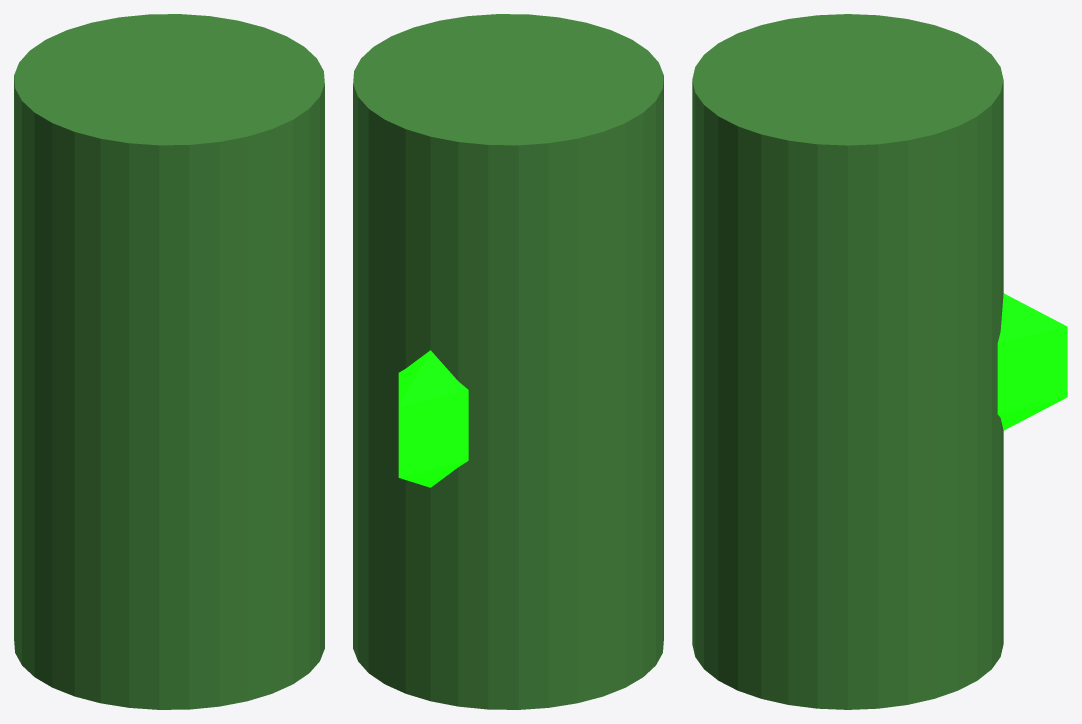
File: Player3D.glb
3 renders of one model, left to right at view 1: azimuth 30°, elevation 25°; view 2: azimuth 150°, elevation 25°; view 3: azimuth 270°, elevation 25°, orthographic.
Visible parts, largest first — view 1: Cylinder; view 2: Cylinder, Sphere; view 3: Cylinder, Sphere.
Boxes of the visible parts, <box> form: Cylinder: <box>14,14,324,709</box>; Cylinder: <box>353,14,663,709</box>; Sphere: <box>398,350,468,487</box>; Cylinder: <box>692,14,1003,709</box>; Sphere: <box>997,293,1067,430</box>.
Size of the model in its own units: 1 by 2 by 1.21.
